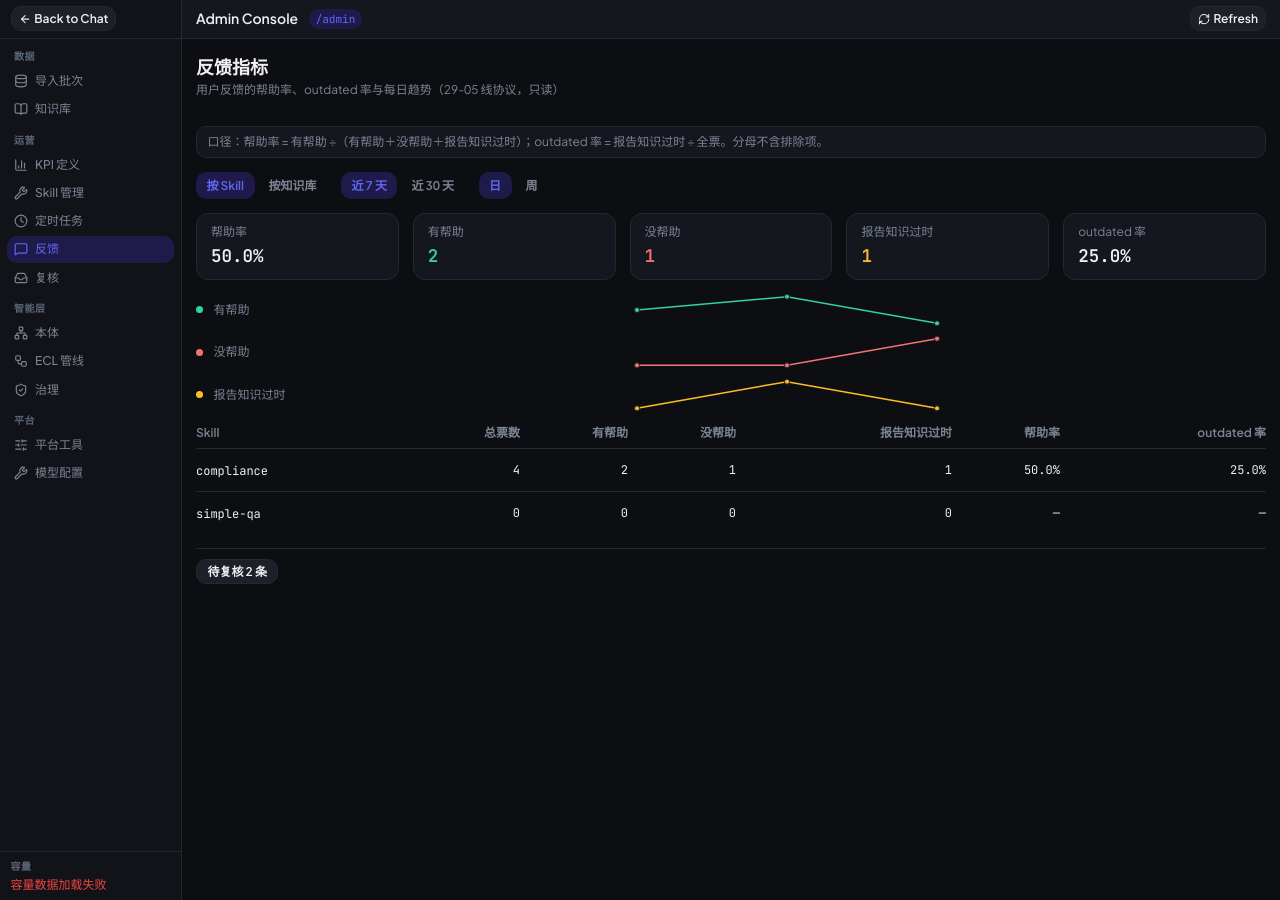
Test: FeedbackMetricsPanel — 待复核 cross-link › clicking 待复核 {n} 条 switches the admin subroute to 复核
Click the button with test id "metrics-crosslink": (237, 572) [196,559,278,584]
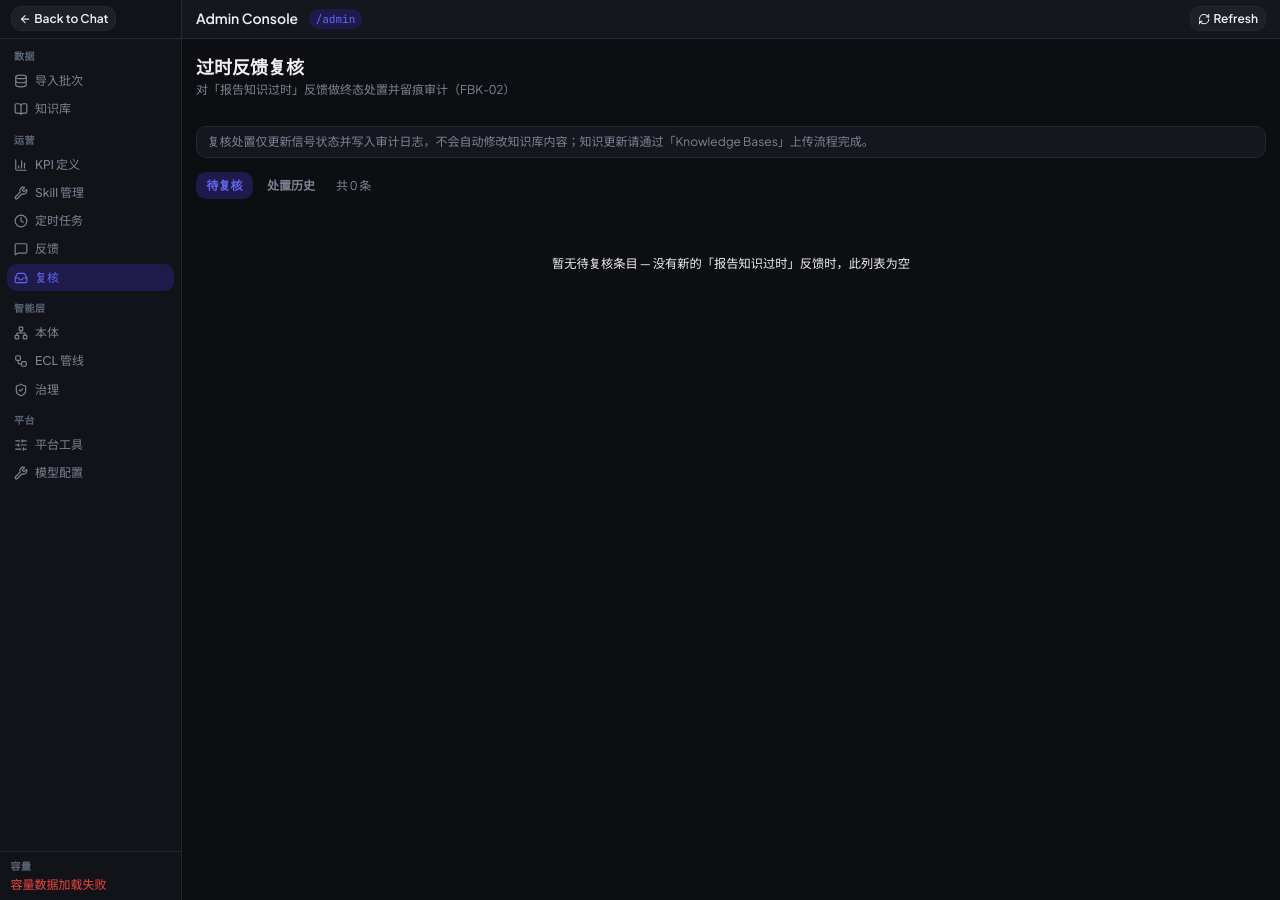
Expected: the element with test id "review-view" is shown, [196,52,1266,314]
